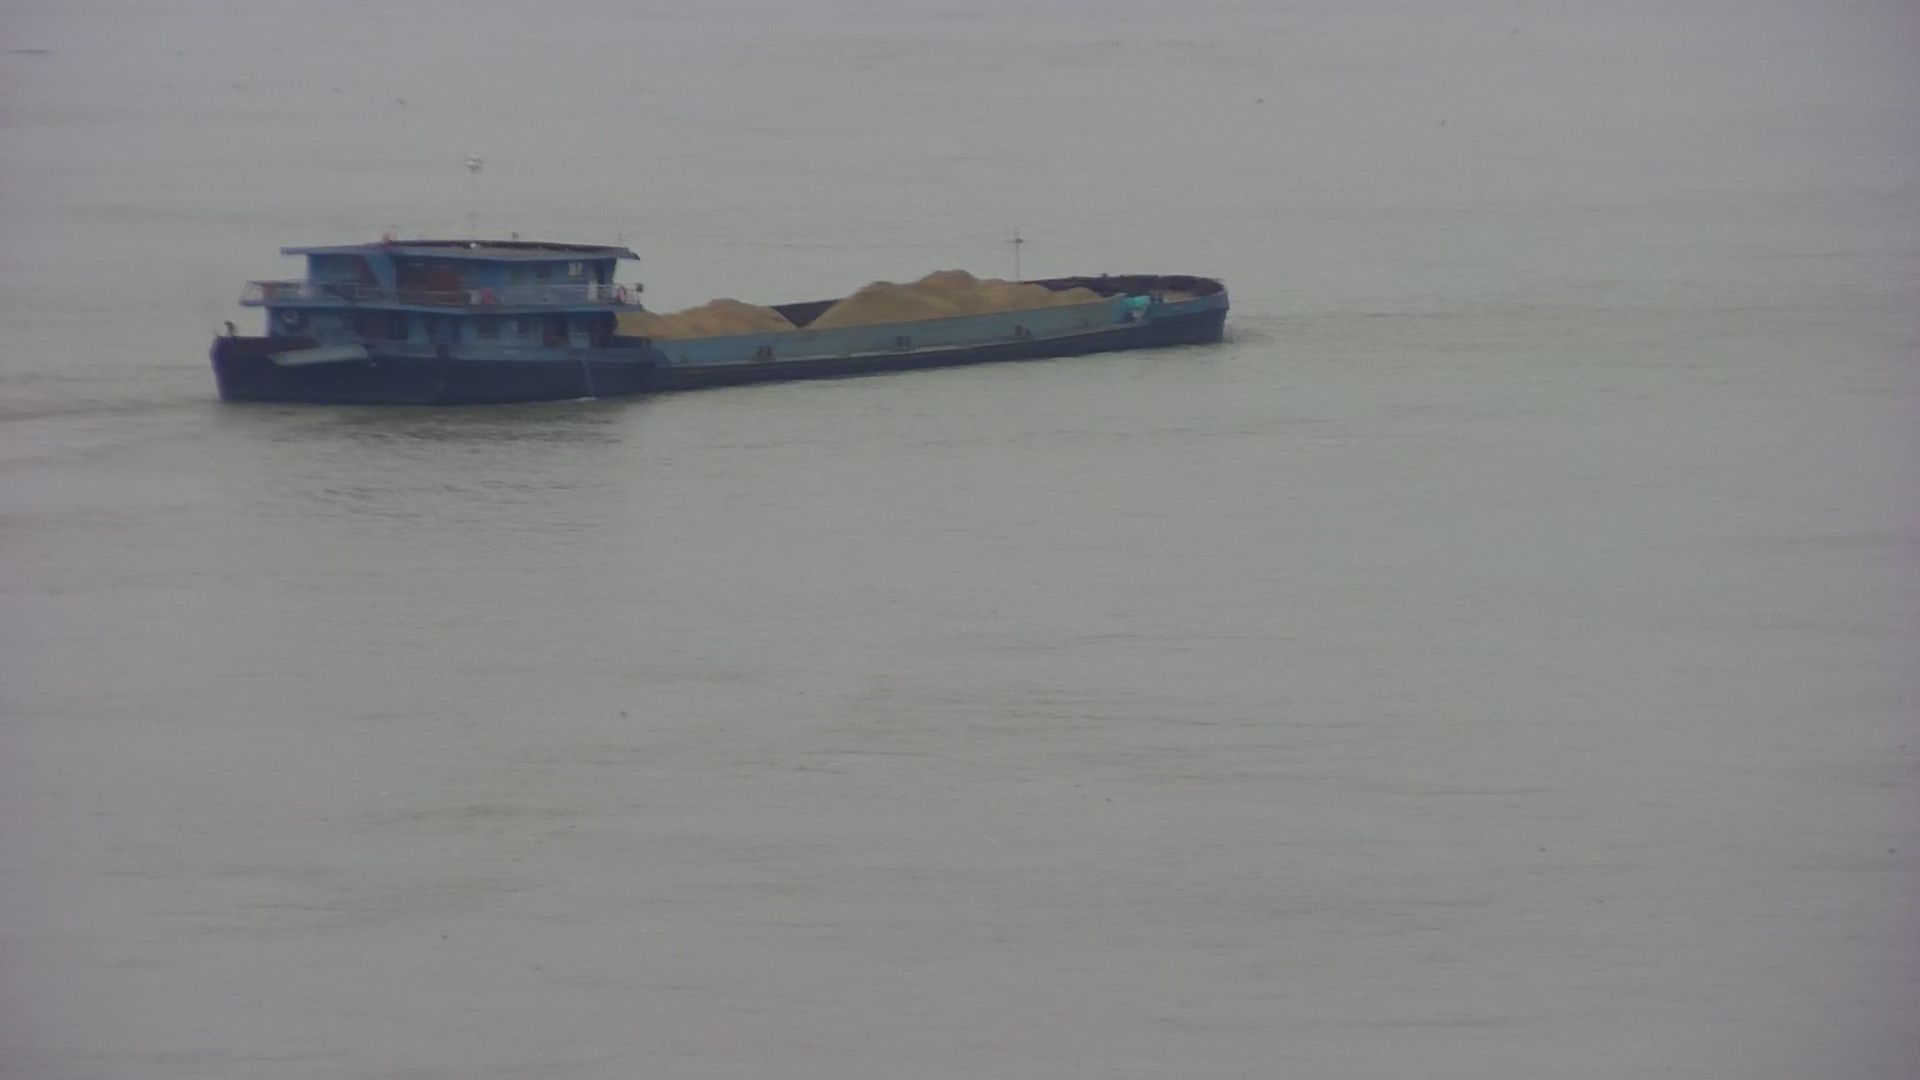ship: (187, 196, 1251, 425)
